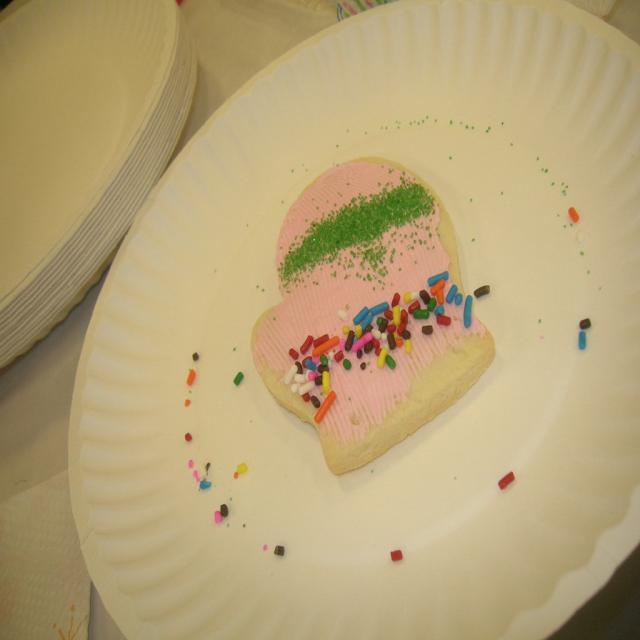ceramic plate: (89, 18, 640, 640)
